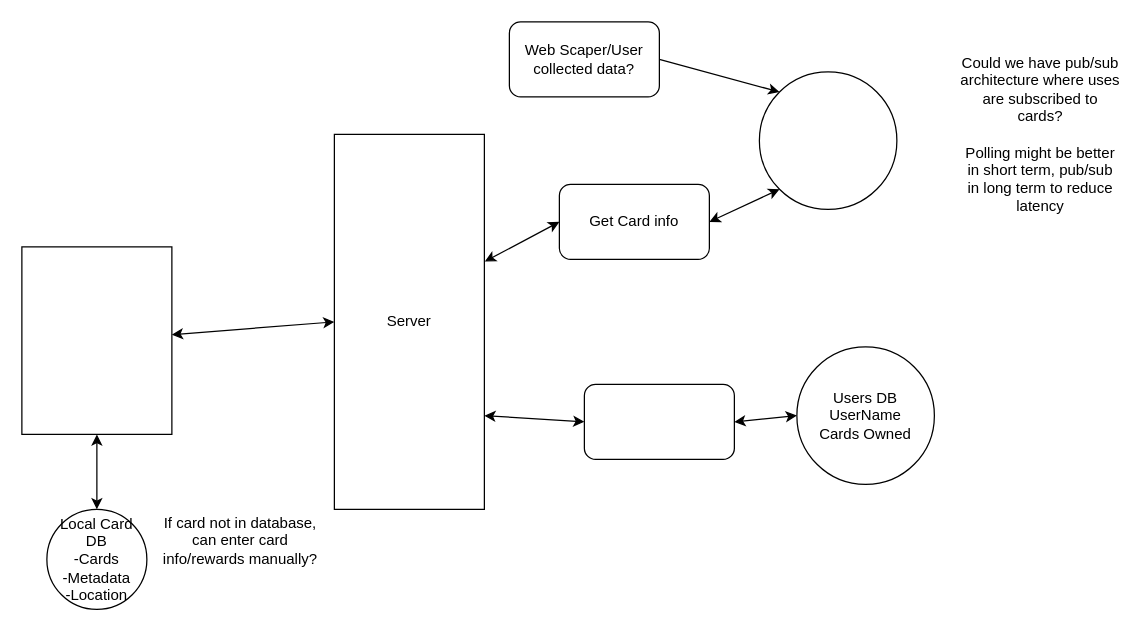
Some shapes in this 1144 by 631 pixel diagram are drawn without their labels. Each missing label, with the box of its shape:
Cards DB Card Name Card Comany Rewards Users Card ID: (758, 71, 897, 209)
Client (Phone/Computer): (21, 246, 172, 434)
Put Card info: (583, 383, 734, 459)
